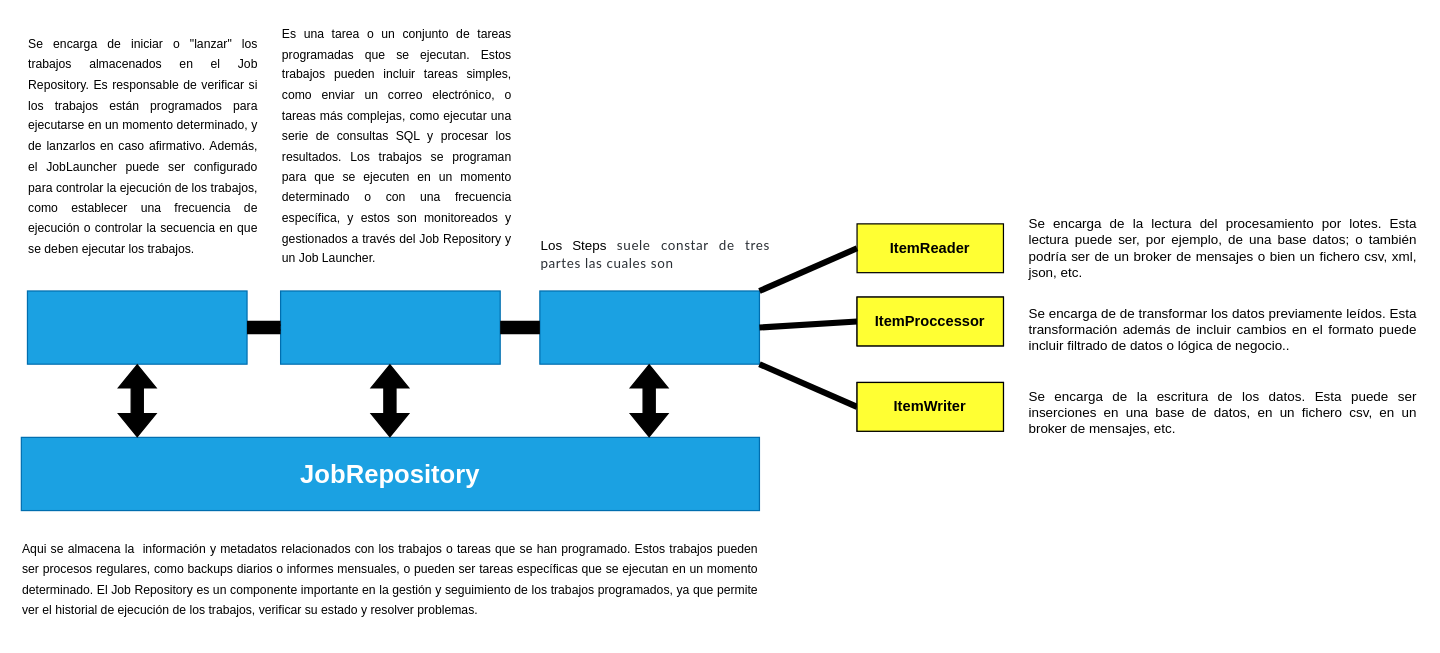
Image size: 1440x653. Some labels were removed from this diagram. Each missing label, with the centre of its shape:
"Job" goes at [389,327].
"JobLaucher" goes at [136,327].
"Step" goes at [649,327].
